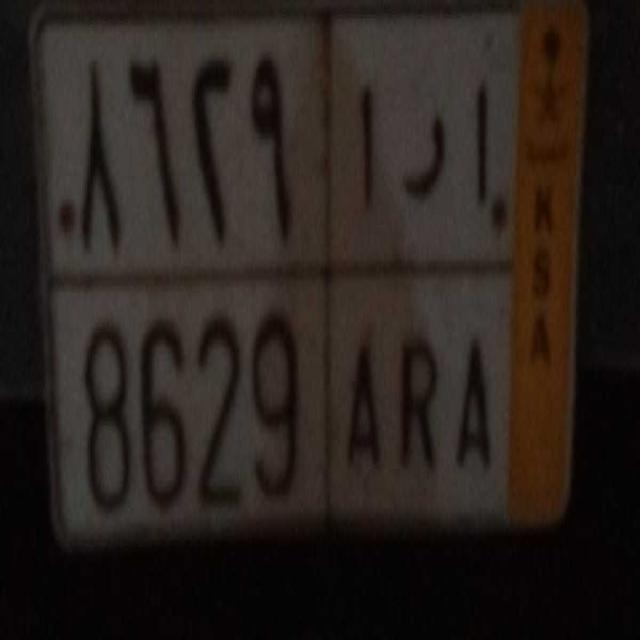license_plate: (46, 270, 516, 548)
